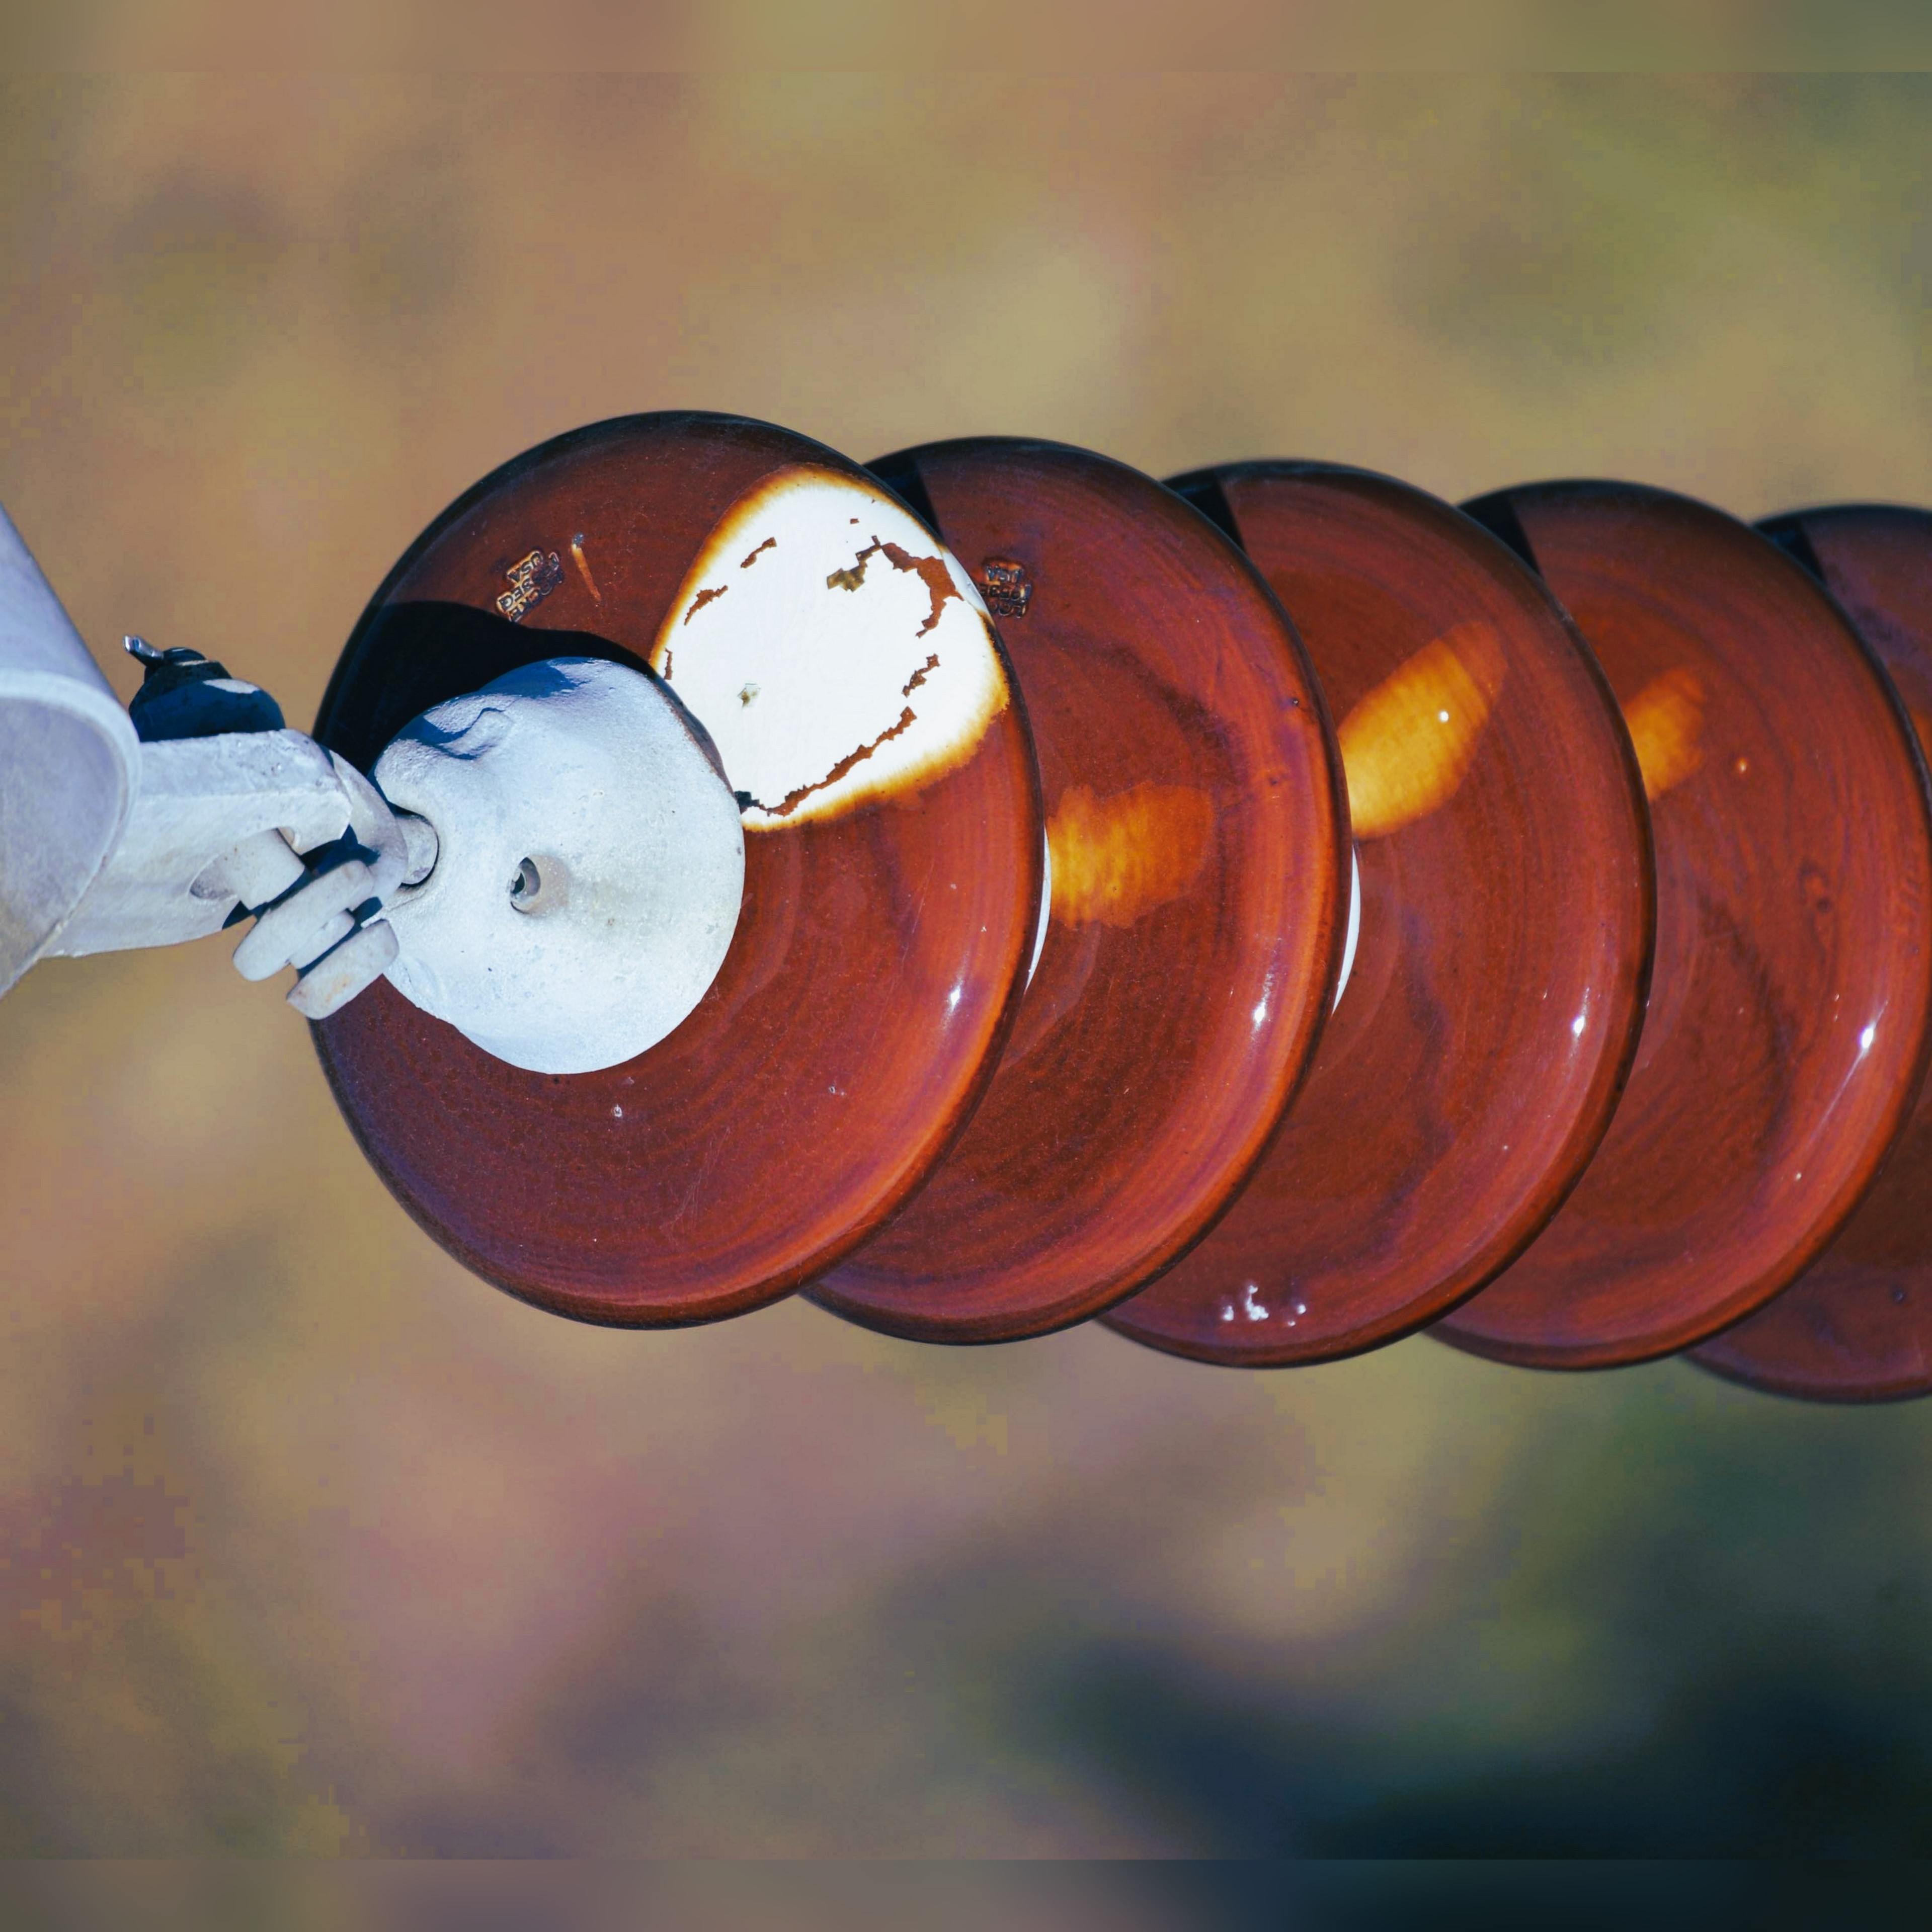Insulator flashover: (280, 400, 1044, 1346)
